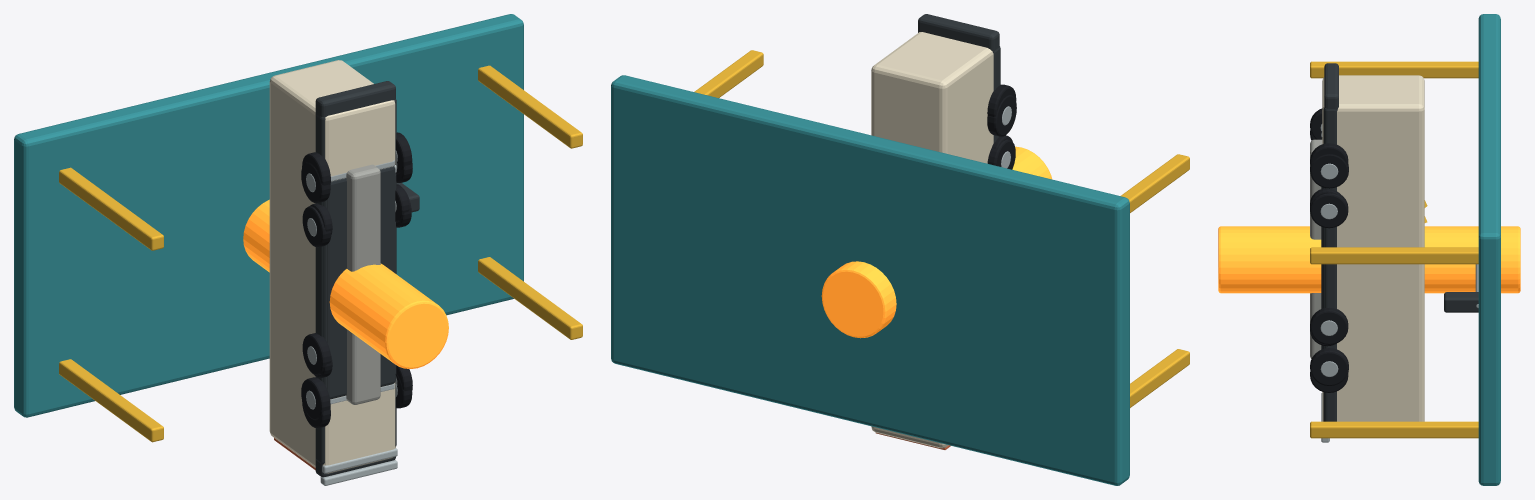
Rendered from kaki-crash-kit-v1.glb.
The picture shows the model from 3 angles, left to right: view 1: azimuth 30°, elevation 25°; view 2: azimuth 150°, elevation 25°; view 3: azimuth 270°, elevation 25°; orthographic projection. The views are drawn at different scales.
Visible parts, largest first — view 1: Canopy_Roof, Trailer_Cargo, Tanker_Shell, Barrier_Base, BoxTruck_Chassis, Canopy_Support_1_1, Canopy_Support_-1_-1, Canopy_Support_-1_1, Canopy_Support_1_-1, Trailer_Frame, Tanker_Frame, Tanker_L_Rear_Tire (+6 smaller); view 2: Canopy_Roof, Trailer_Cargo, Tanker_Shell, Trailer_Frame, Canopy_Support_-1_1, Canopy_Support_-1_-1, Canopy_Support_1_1, Tanker_L_Front_Tire; view 3: Trailer_Cargo, Canopy_Roof, Tanker_Shell, Canopy_Support_1_-1, Canopy_Support_1_1, Canopy_Support_-1_1, Tanker_Frame, Tanker_R_Rear_Tire, Semi_R_Rear_Tire, Semi_R_Front_Tire, Barrier_Base, Tanker_R_Front_Tire (+3 smaller).
Boxes of the visible parts, <box> form: Canopy_Roof: <box>14,14,523,417</box>; Trailer_Cargo: <box>269,60,395,473</box>; Tanker_Shell: <box>243,199,448,368</box>; Barrier_Base: <box>346,164,380,404</box>; BoxTruck_Chassis: <box>327,166,395,399</box>; Canopy_Support_1_1: <box>478,65,582,148</box>; Canopy_Support_-1_-1: <box>59,359,163,442</box>; Canopy_Support_-1_1: <box>59,167,163,250</box>; Canopy_Support_1_-1: <box>478,257,582,339</box>; Trailer_Frame: <box>315,81,395,477</box>; Tanker_Frame: <box>315,99,396,464</box>; Tanker_L_Rear_Tire: <box>301,377,330,420</box>; Canopy_Roof: <box>611,75,1129,485</box>; Trailer_Cargo: <box>871,32,993,448</box>; Tanker_Shell: <box>821,146,1052,338</box>; Trailer_Frame: <box>918,14,999,53</box>; Canopy_Support_-1_1: <box>1120,154,1189,212</box>; Canopy_Support_-1_-1: <box>1130,349,1189,407</box>; Canopy_Support_1_1: <box>694,50,763,97</box>; Tanker_L_Front_Tire: <box>987,95,1016,136</box>; Trailer_Cargo: <box>1322,75,1424,421</box>; Canopy_Roof: <box>1478,14,1500,485</box>; Tanker_Shell: <box>1218,226,1520,293</box>; Canopy_Support_1_-1: <box>1310,421,1478,438</box>; Canopy_Support_1_1: <box>1310,247,1478,264</box>; Canopy_Support_-1_1: <box>1310,61,1478,78</box>; Tanker_Frame: <box>1323,107,1336,421</box>; Tanker_R_Rear_Tire: <box>1310,348,1348,385</box>; Semi_R_Rear_Tire: <box>1310,308,1348,344</box>; Semi_R_Front_Tire: <box>1310,193,1348,228</box>; Barrier_Base: <box>1310,139,1322,358</box>; Tanker_R_Front_Tire: <box>1310,154,1348,188</box>.
Bounding box in the file's own units: 17 × 12.39 × 9.75.
